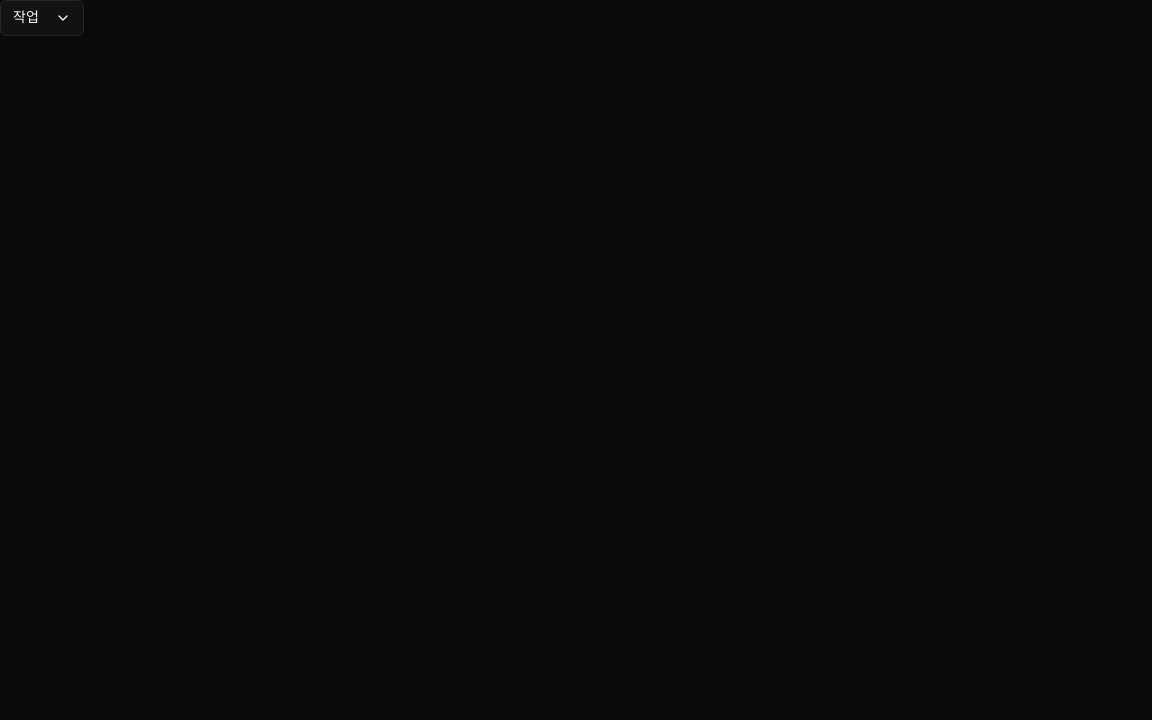
Test case: AvatarsActionsDropdown — lifecycle 분기 › DRAFT '게시' 클릭 → publish dialog open
Click the button "작업" at {"x": 42, "y": 18}, box left=0, top=0, right=84, bottom=36
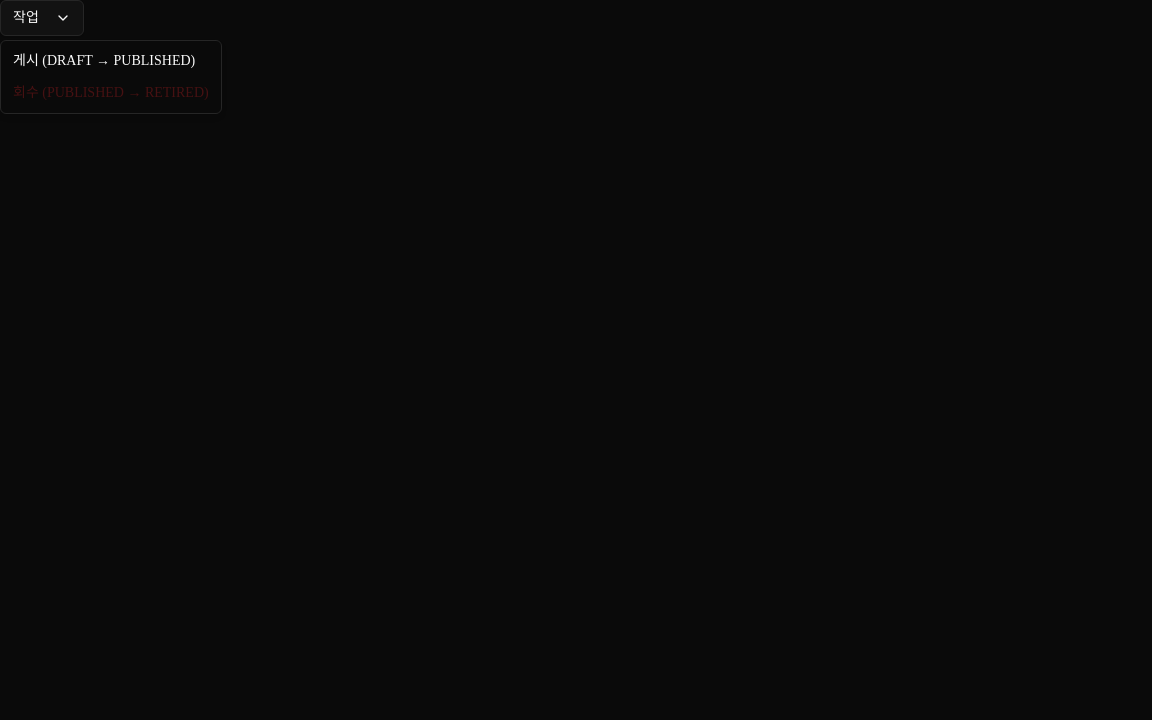
Click the menu item "게시 (DRAFT → PUBLISHED)" at {"x": 104, "y": 60}, box left=13, top=53, right=195, bottom=68
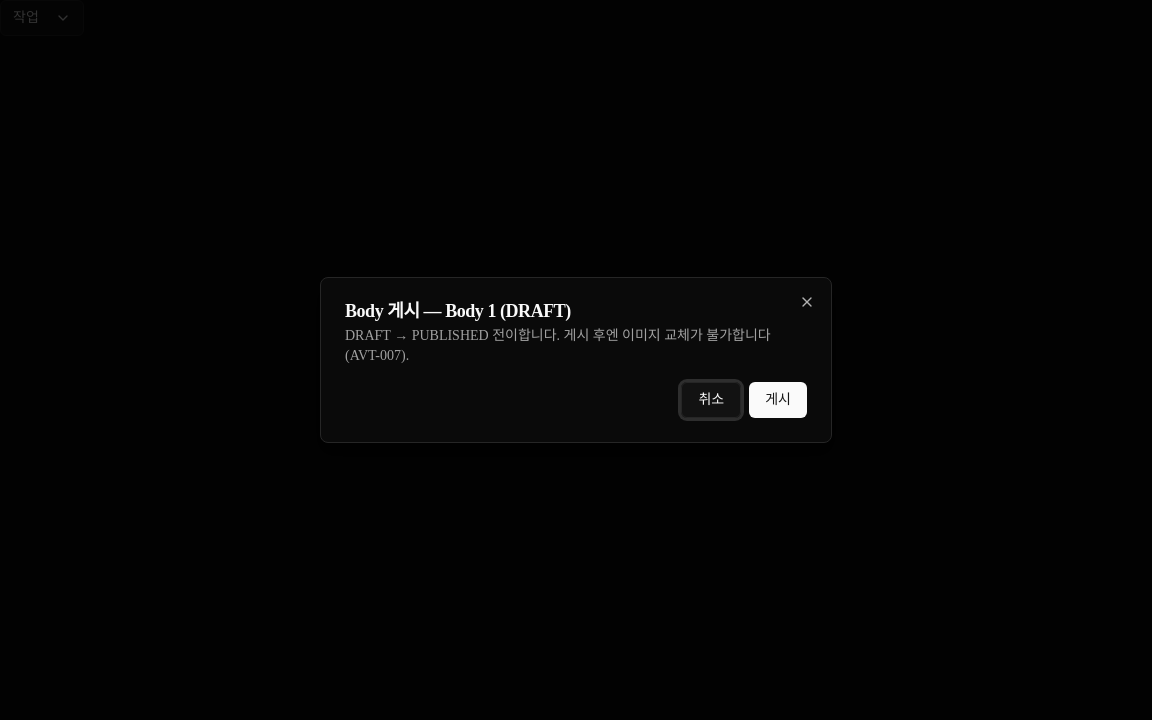
Expected: the heading "Body 게시 — Body 1 (DRAFT)" is shown, left=345, top=301, right=571, bottom=321
